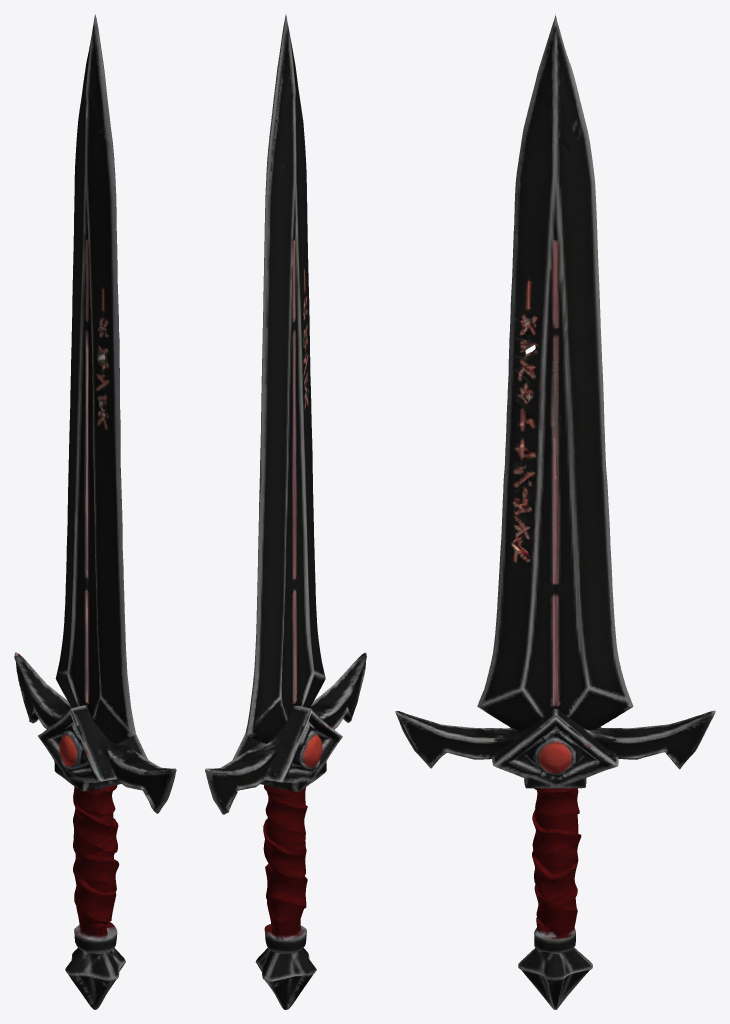
File: 21_fantasy+sword+3d+model_glb_rare.glb
The picture shows the model from 3 angles, left to right: view 1: azimuth 30°, elevation 25°; view 2: azimuth 150°, elevation 25°; view 3: azimuth 270°, elevation 25°; orthographic projection.
Visible parts, largest first — view 1: tripo_node_dfe35352-fa9c-417b-9674-96c2b97f807a; view 2: tripo_node_dfe35352-fa9c-417b-9674-96c2b97f807a; view 3: tripo_node_dfe35352-fa9c-417b-9674-96c2b97f807a.
Boxes of the visible parts, <box> form: tripo_node_dfe35352-fa9c-417b-9674-96c2b97f807a: <box>14,14,176,1009</box>; tripo_node_dfe35352-fa9c-417b-9674-96c2b97f807a: <box>205,14,366,1009</box>; tripo_node_dfe35352-fa9c-417b-9674-96c2b97f807a: <box>395,14,715,1009</box>.
Bounding box in the file's own units: 0.0697 × 1 × 0.2917.
